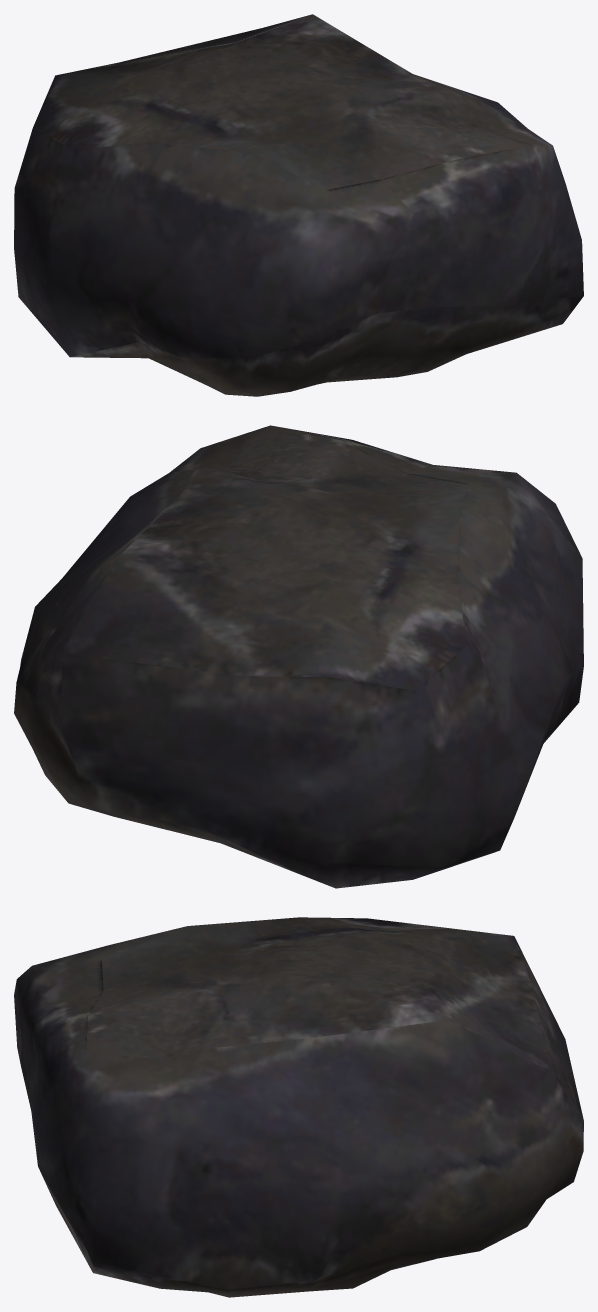
The model's file is STA20_groundrock.FBX.
The picture shows the model from 3 angles, top to bottom: view 1: azimuth 30°, elevation 25°; view 2: azimuth 150°, elevation 25°; view 3: azimuth 270°, elevation 25°; orthographic projection. The views are drawn at different scales.
Visible parts, largest first — view 1: STA20_groundrock; view 2: STA20_groundrock; view 3: STA20_groundrock.
Boxes of the visible parts, box(x1,y1,x2,y2) form: STA20_groundrock: box(14, 14, 583, 396); STA20_groundrock: box(14, 425, 583, 888); STA20_groundrock: box(14, 917, 583, 1297).
Bounding box in the file's own units: 3.56 × 2.07 × 3.8.
